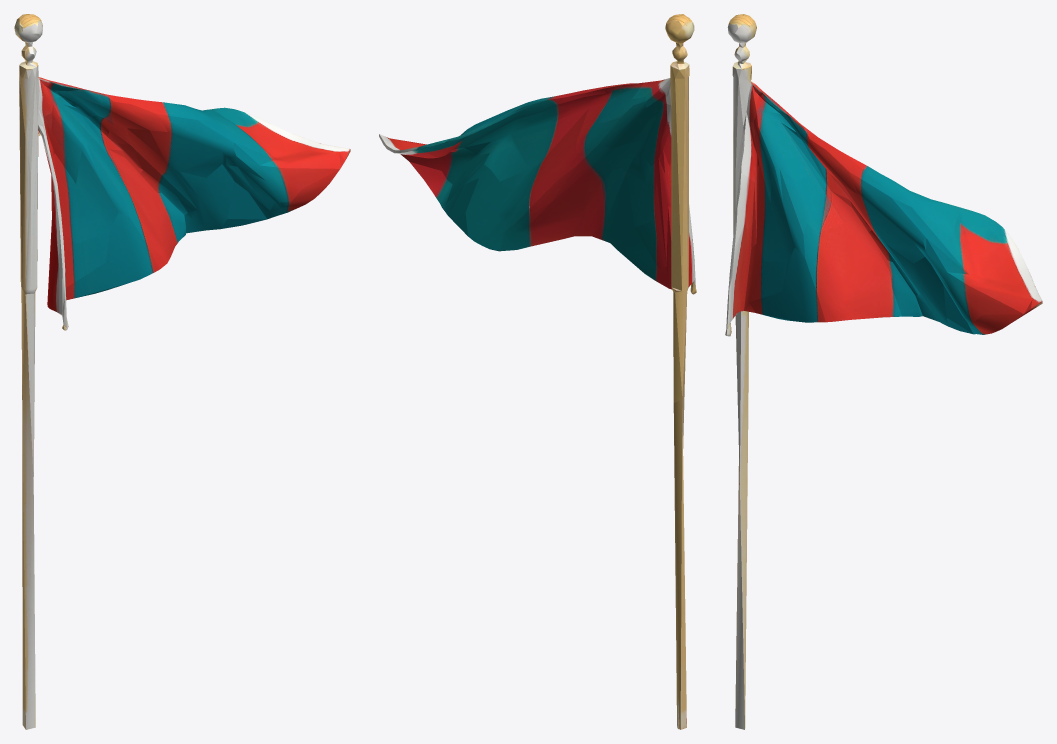
Rendered from banner-pole.glb.
3 views of the same model, side by side, from view 1: azimuth 30°, elevation 25°; view 2: azimuth 150°, elevation 25°; view 3: azimuth 330°, elevation 25° (orthographic).
Bounding box in the file's own units: 0.9017 × 1.9 × 0.249.
1 material, 1 textured.
